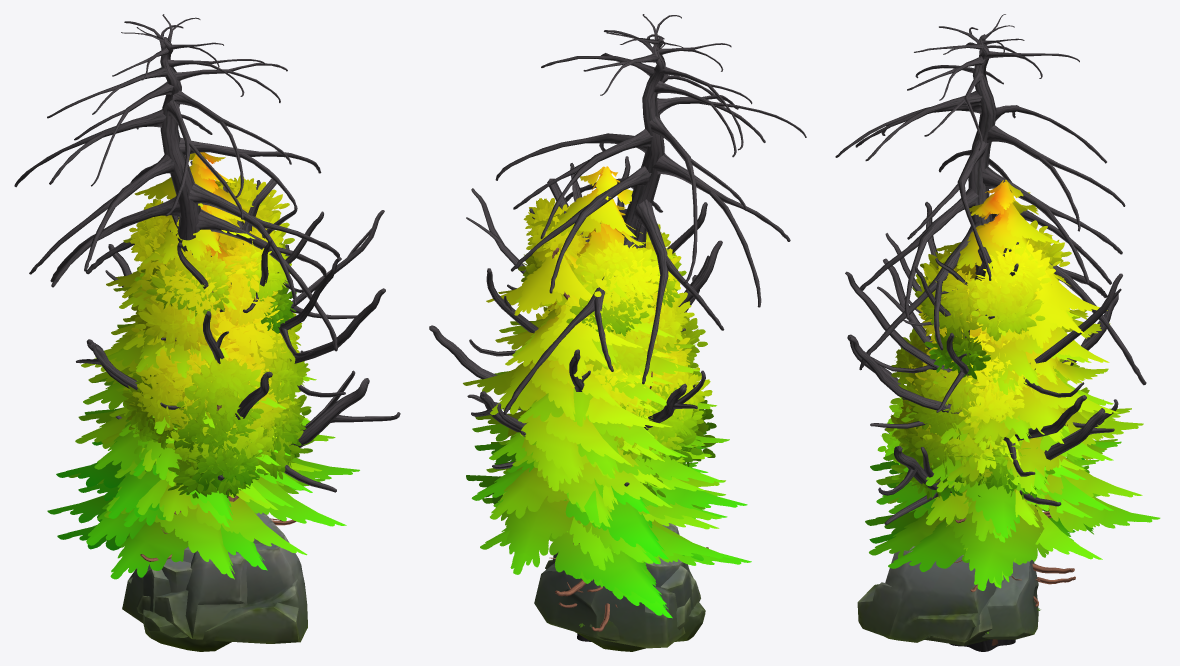
Rendered from nature.glb.
3 renders of one model, left to right at view 1: azimuth 30°, elevation 25°; view 2: azimuth 150°, elevation 25°; view 3: azimuth 270°, elevation 25°, orthographic. The views are drawn at different scales.
Visible parts, largest first — view 1: DeadTree_3, CommonTree_3, Pine_4, DeadTree_1, Pine_5, Rock_Medium_3, Pine_2, CommonTree_1, CommonTree_4, CommonTree_2, Rock_Medium_1, Pine_1 (+2 smaller); view 2: Pine_5, DeadTree_3, Pine_4, CommonTree_3, Rock_Medium_2, DeadTree_1, CommonTree_4, Pine_2, CommonTree_1, CommonTree_2, Pine_1, Rock_Medium_3 (+3 smaller); view 3: Pine_5, DeadTree_3, Pine_4, DeadTree_1, CommonTree_4, Rock_Medium_3, CommonTree_3, Pine_2, CommonTree_2, Rock_Medium_2, CommonTree_1, Pine_1 (+2 smaller).
Part boxes in pixels (left/top/right/bottom): DeadTree_3: left=14, top=14, right=339, bottom=351; CommonTree_3: left=129, top=181, right=310, bottom=459; Pine_4: left=56, top=152, right=316, bottom=561; DeadTree_1: left=76, top=160, right=400, bottom=492; Pine_5: left=47, top=271, right=359, bottom=570; Rock_Medium_3: left=143, top=512, right=307, bottom=651; Pine_2: left=57, top=334, right=325, bottom=579; CommonTree_1: left=127, top=320, right=314, bottom=498; CommonTree_4: left=134, top=175, right=296, bottom=333; CommonTree_2: left=122, top=304, right=311, bottom=501; Rock_Medium_1: left=136, top=550, right=247, bottom=639; Pine_1: left=78, top=331, right=293, bottom=538; Pine_5: left=463, top=243, right=734, bottom=604; DeadTree_3: left=495, top=14, right=806, bottom=641; Pine_4: left=471, top=166, right=747, bottom=631; CommonTree_3: left=540, top=204, right=707, bottom=460; Rock_Medium_2: left=534, top=557, right=685, bottom=648; DeadTree_1: left=429, top=156, right=722, bottom=641; CommonTree_4: left=518, top=198, right=686, bottom=389; Pine_2: left=480, top=355, right=751, bottom=618; CommonTree_1: left=550, top=310, right=716, bottom=497; CommonTree_2: left=520, top=310, right=716, bottom=463; Pine_1: left=493, top=349, right=727, bottom=596; Rock_Medium_3: left=545, top=552, right=705, bottom=641; Pine_5: left=869, top=264, right=1160, bottom=590; DeadTree_3: left=835, top=14, right=1146, bottom=651; Pine_4: left=870, top=179, right=1121, bottom=592; DeadTree_1: left=845, top=202, right=1122, bottom=525; CommonTree_4: left=912, top=220, right=1071, bottom=645; Rock_Medium_3: left=857, top=546, right=996, bottom=642; CommonTree_3: left=888, top=240, right=1069, bottom=645; Pine_2: left=865, top=378, right=1102, bottom=588; CommonTree_2: left=877, top=327, right=1061, bottom=645; Rock_Medium_2: left=982, top=560, right=1038, bottom=639; CommonTree_1: left=885, top=340, right=1037, bottom=511; Pine_1: left=887, top=372, right=1099, bottom=573.
Bounding box in the file's own units: 7.4 × 13.28 × 6.82.
Materials: 10 (10 with a texture image).
